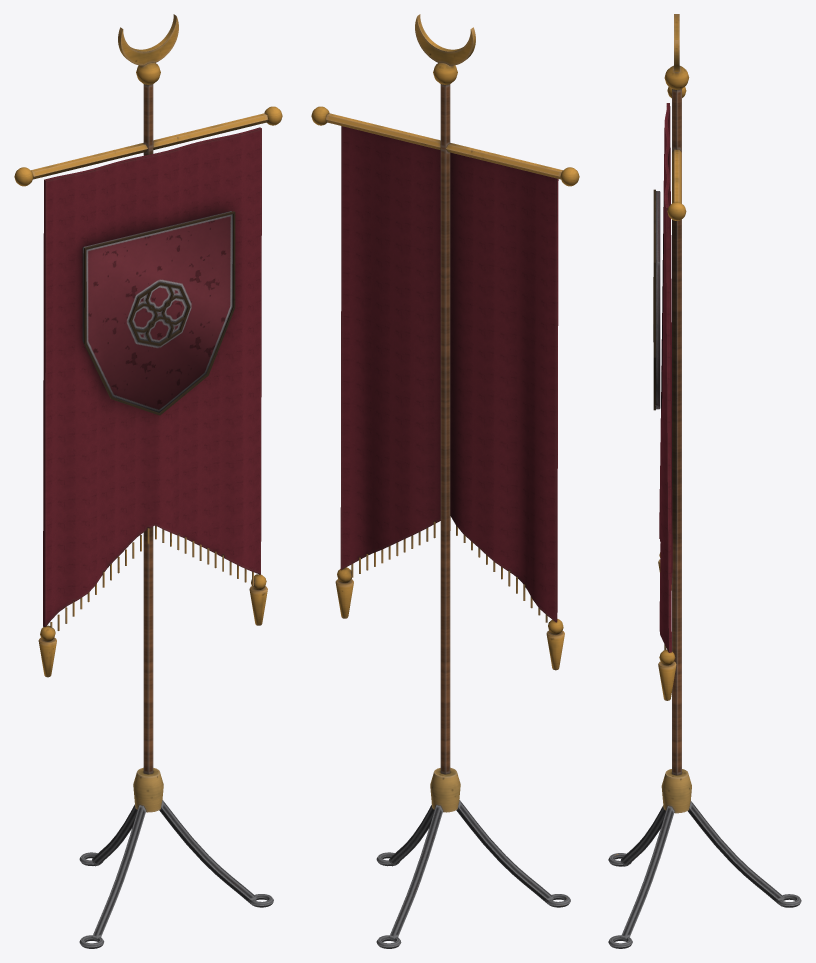
File: GonfalonStand.fbx
The picture shows the model from 3 angles, left to right: view 1: azimuth 30°, elevation 25°; view 2: azimuth 150°, elevation 25°; view 3: azimuth 270°, elevation 25°; orthographic projection.
Visible parts, largest first — view 1: GonfalonStand_Cloth, GonfalonStand_Main; view 2: GonfalonStand_Cloth, GonfalonStand_Main; view 3: GonfalonStand_Main, GonfalonStand_Cloth.
Boxes of the visible parts, bbox=[...] form: GonfalonStand_Cloth: bbox=[38, 127, 267, 677]; GonfalonStand_Main: bbox=[14, 14, 282, 948]; GonfalonStand_Cloth: bbox=[335, 126, 564, 670]; GonfalonStand_Main: bbox=[311, 14, 579, 948]; GonfalonStand_Main: bbox=[608, 14, 801, 948]; GonfalonStand_Cloth: bbox=[653, 103, 676, 700].
Bounding box in the file's own units: 320 × 1015 × 203.
